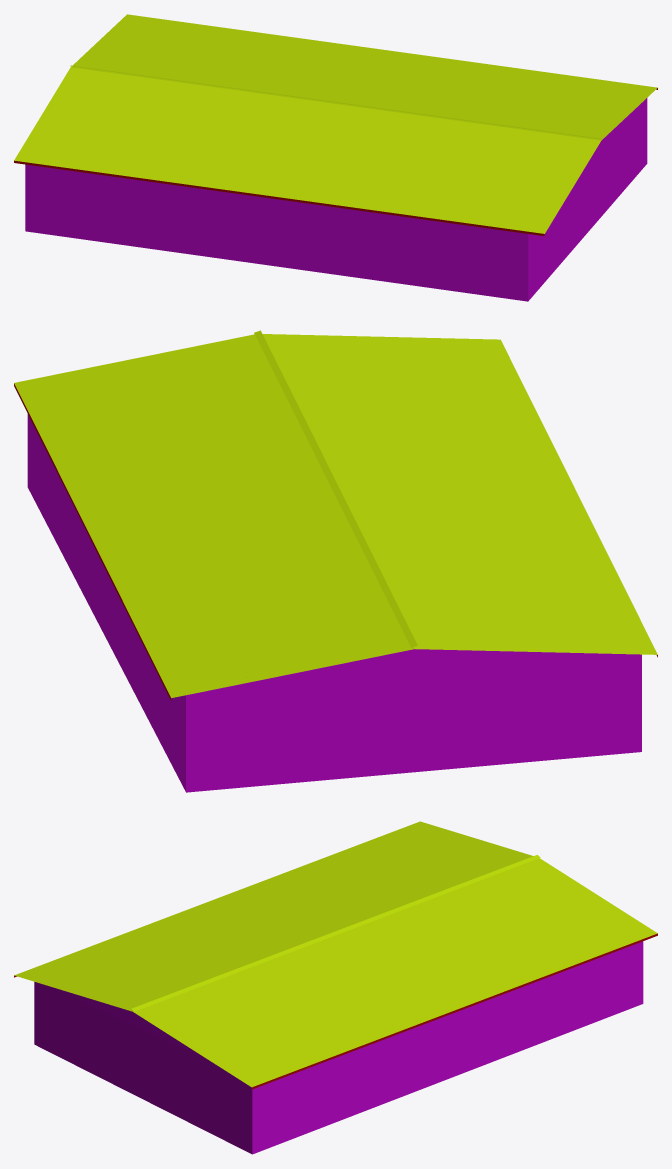
Rendered from bgj_46.glb.
3 views of the same model, one above another, from view 1: azimuth 30°, elevation 25°; view 2: azimuth 150°, elevation 25°; view 3: azimuth 270°, elevation 25° (orthographic). The views are drawn at different scales.
Visible parts, largest first — view 1: bgj_46; view 2: bgj_46; view 3: bgj_46.
Part boxes in pixels (box(x1,y1,x2,y2)): bgj_46: box(14, 14, 657, 301); bgj_46: box(14, 330, 657, 792); bgj_46: box(14, 821, 657, 1154).
Size of the model in its own units: 30.45 by 5.01 by 31.15.
